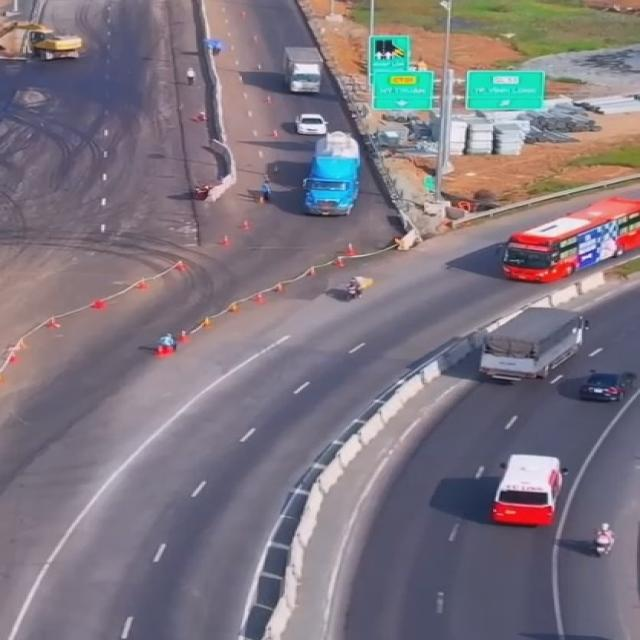bus: (499, 194, 640, 284), (490, 453, 565, 529)
car: (573, 369, 631, 408), (291, 107, 326, 135)
motorbike: (590, 521, 617, 558)
truck: (481, 299, 589, 385), (296, 129, 368, 219), (279, 44, 329, 92)
